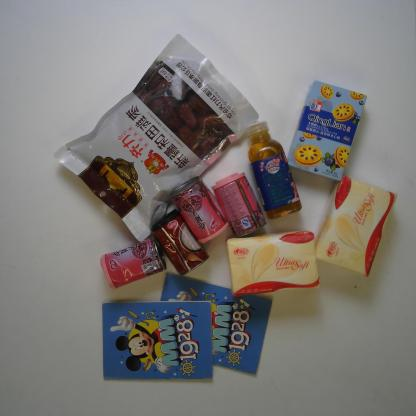Canned Food: (170, 175, 231, 246), (100, 234, 168, 292), (152, 208, 211, 274), (212, 172, 268, 235)
Dessert: (287, 81, 368, 180)
Dried Food: (50, 32, 260, 244)
Drink: (246, 119, 302, 219)
Stationery: (160, 271, 272, 376), (100, 300, 214, 380)
Tissue: (313, 174, 400, 280), (224, 231, 320, 296)
